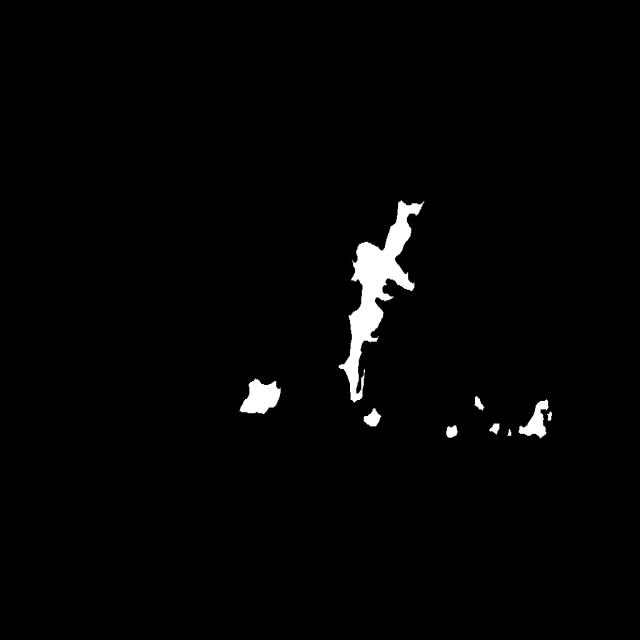fire: (206, 231, 610, 487)
